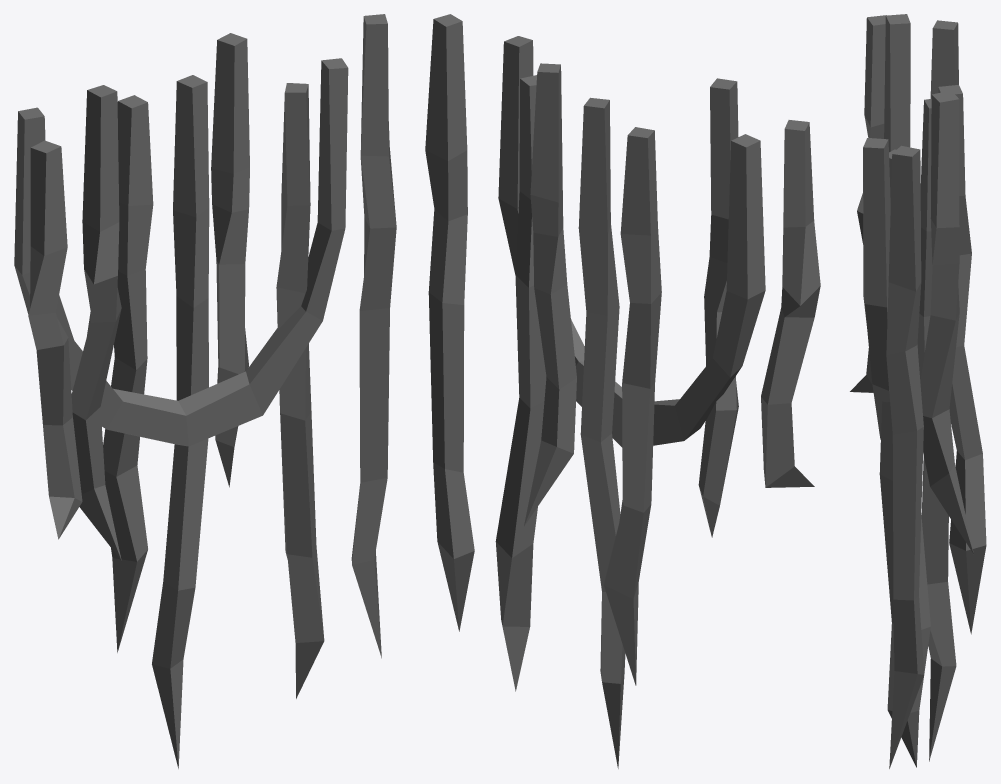
Rendered from SM_Gen_Env_Vines_04.glb.
The picture shows the model from 3 angles, left to right: view 1: azimuth 30°, elevation 25°; view 2: azimuth 150°, elevation 25°; view 3: azimuth 270°, elevation 25°; orthographic projection. The views are drawn at different scales.
Visible parts, largest first — view 1: SM_Gen_Env_Vines_04; view 2: SM_Gen_Env_Vines_04; view 3: SM_Gen_Env_Vines_04.
Part boxes in pixels (left/top/right/bottom): SM_Gen_Env_Vines_04: left=14, top=14, right=396, bottom=768; SM_Gen_Env_Vines_04: left=425, top=14, right=820, bottom=768; SM_Gen_Env_Vines_04: left=850, top=14, right=986, bottom=768.
Bounding box in the file's own units: 1.17 × 2.08 × 0.3694.
Materials: 1 (1 with a texture image).
